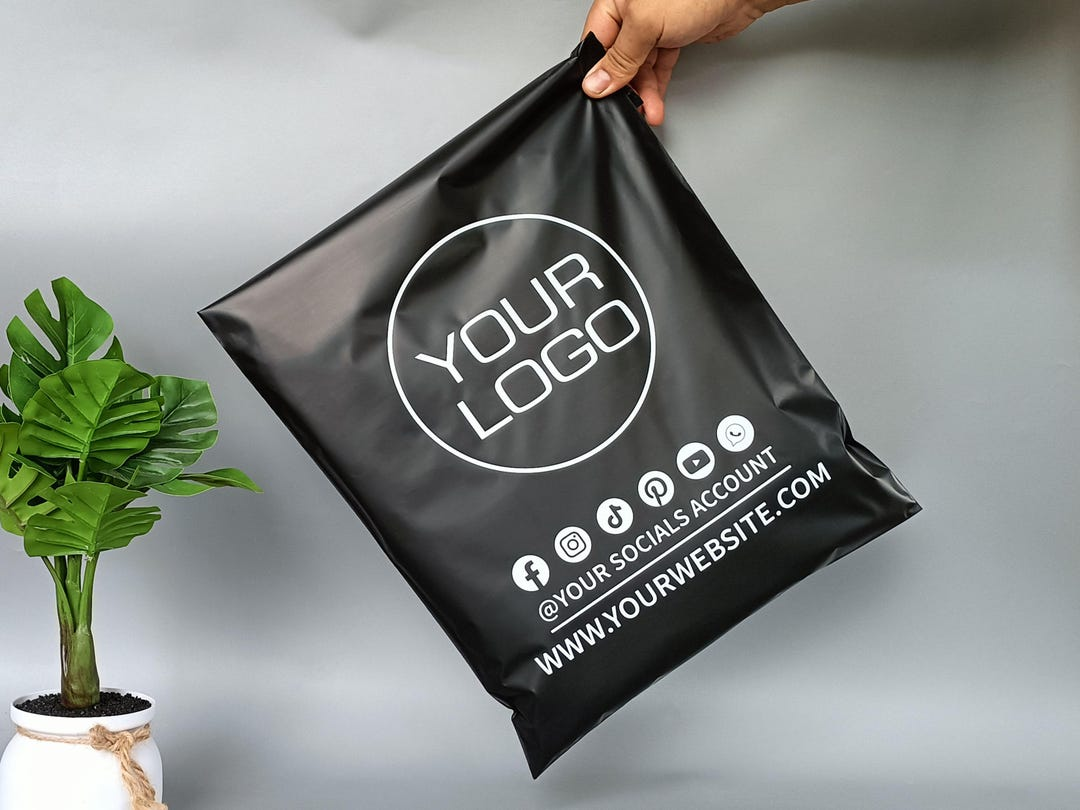塑料袋: (199, 51, 921, 775)
